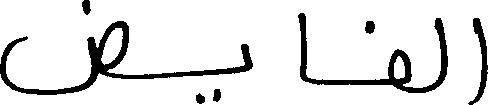X: (0, 0, 127, 99), (472, 13, 487, 104), (386, 44, 411, 97), (436, 13, 448, 92), (299, 0, 305, 104), (242, 39, 250, 76)
